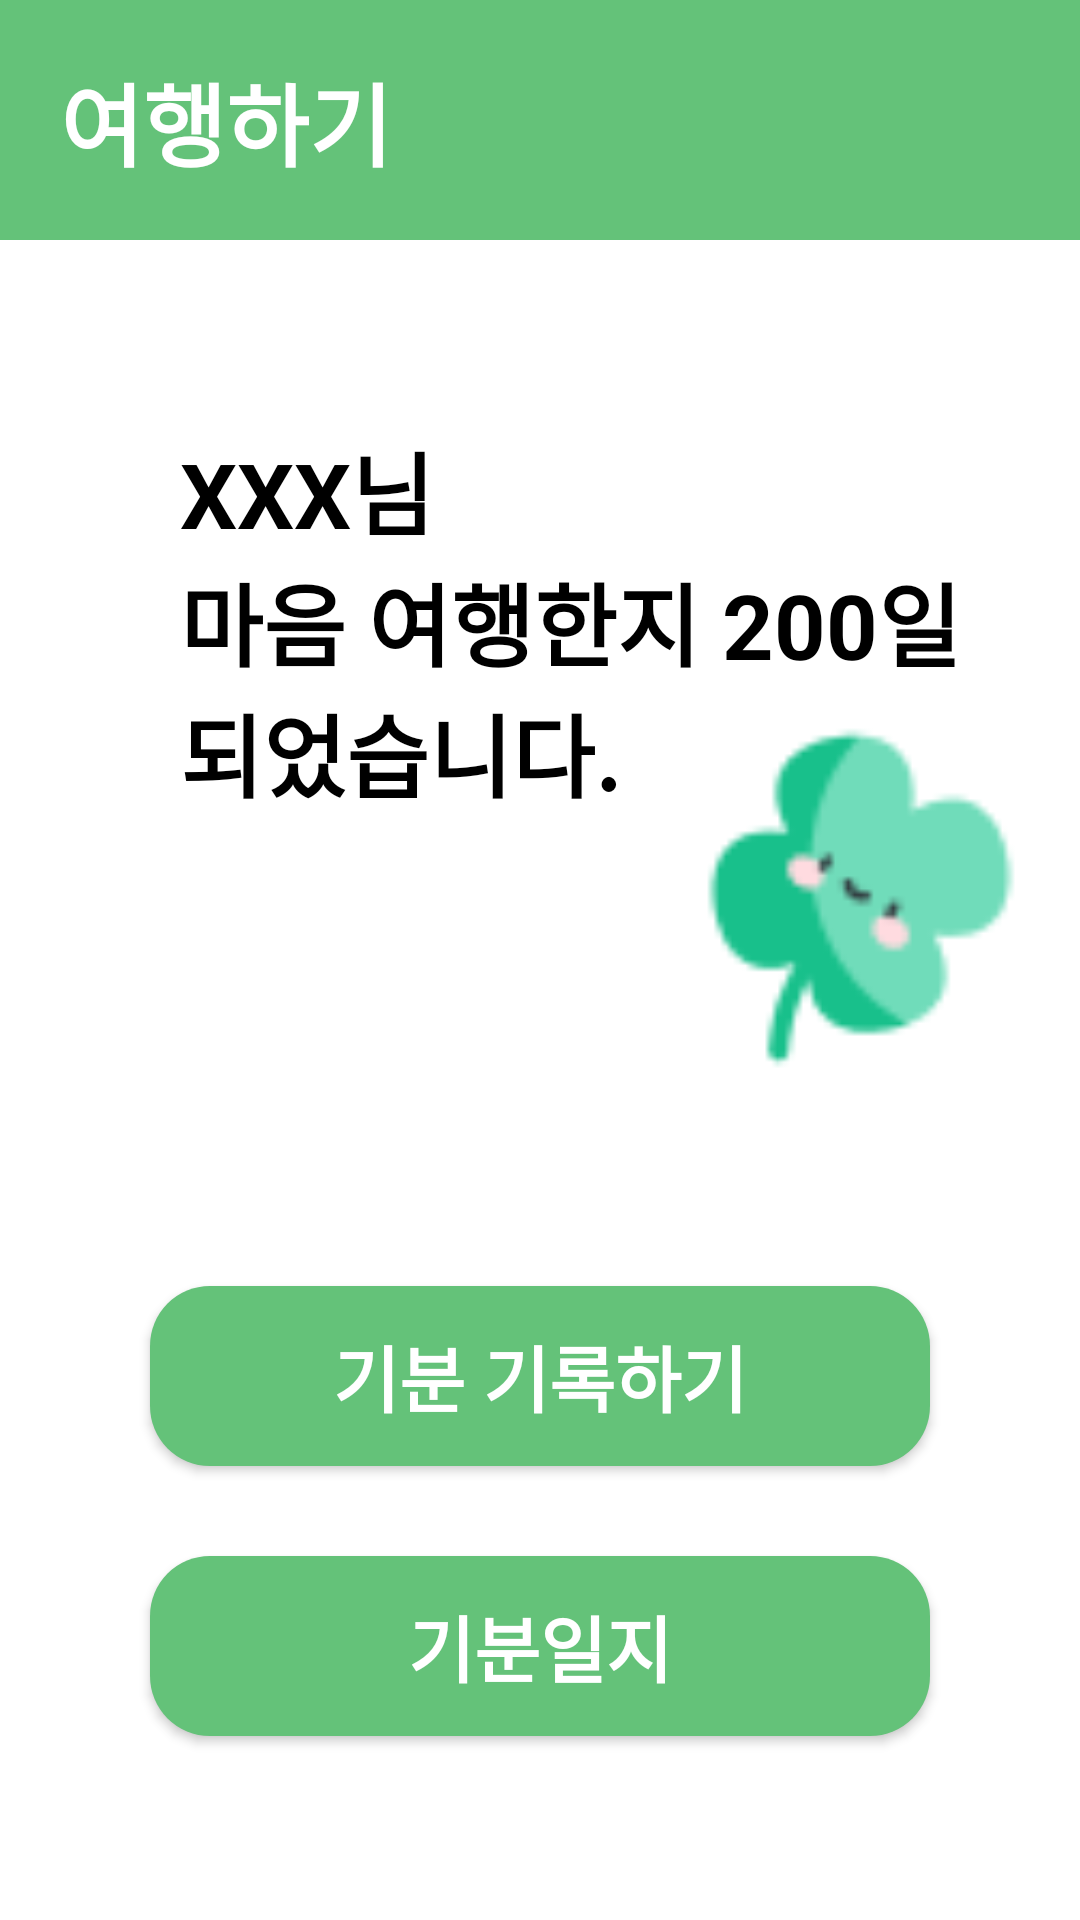

Named icons in this screenshot (1080px×1920px) and their bounding boxes, (x1, y1, x2, y2):
clover angle: (708, 730, 1013, 1066)
